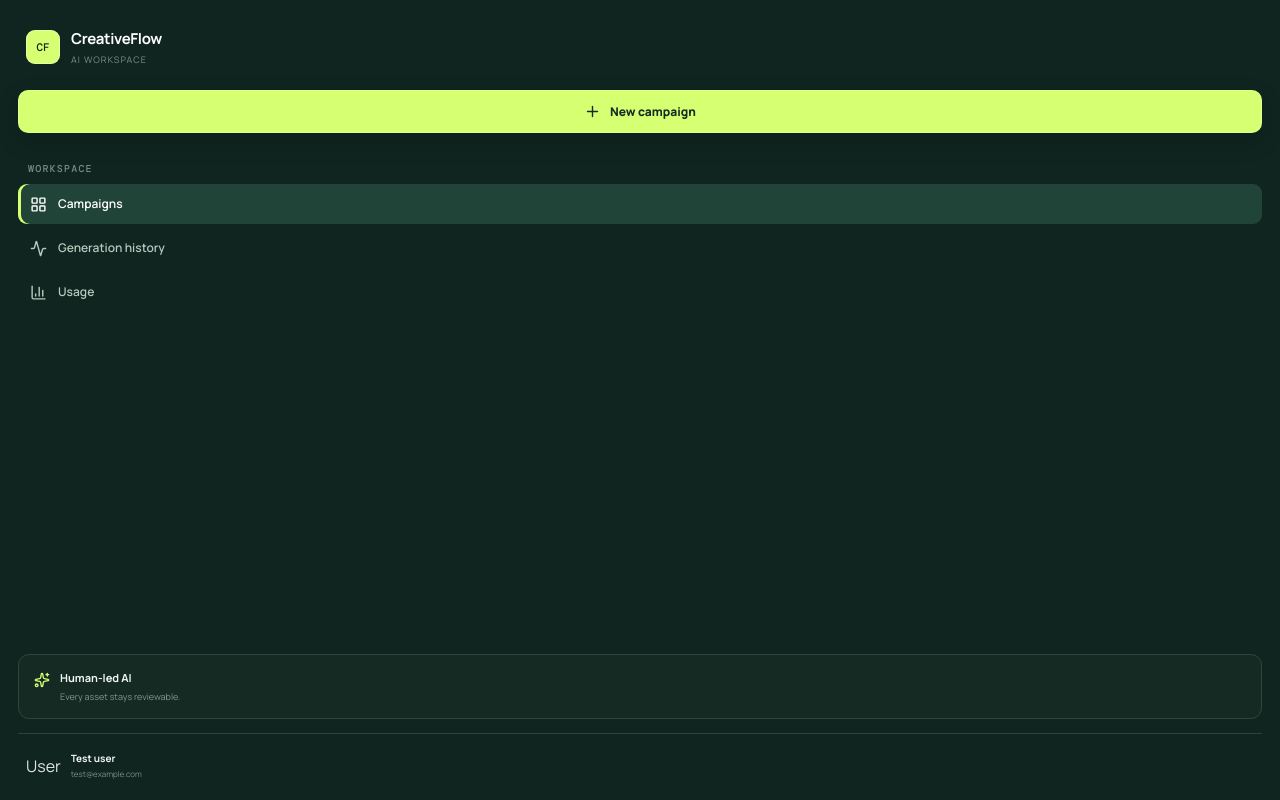
Test: campaign creation dialog › opens from the primary New campaign action
The image size is (1280, 800).
Click the button "New campaign": (640, 112) x1=18 y1=90 x2=1262 y2=133
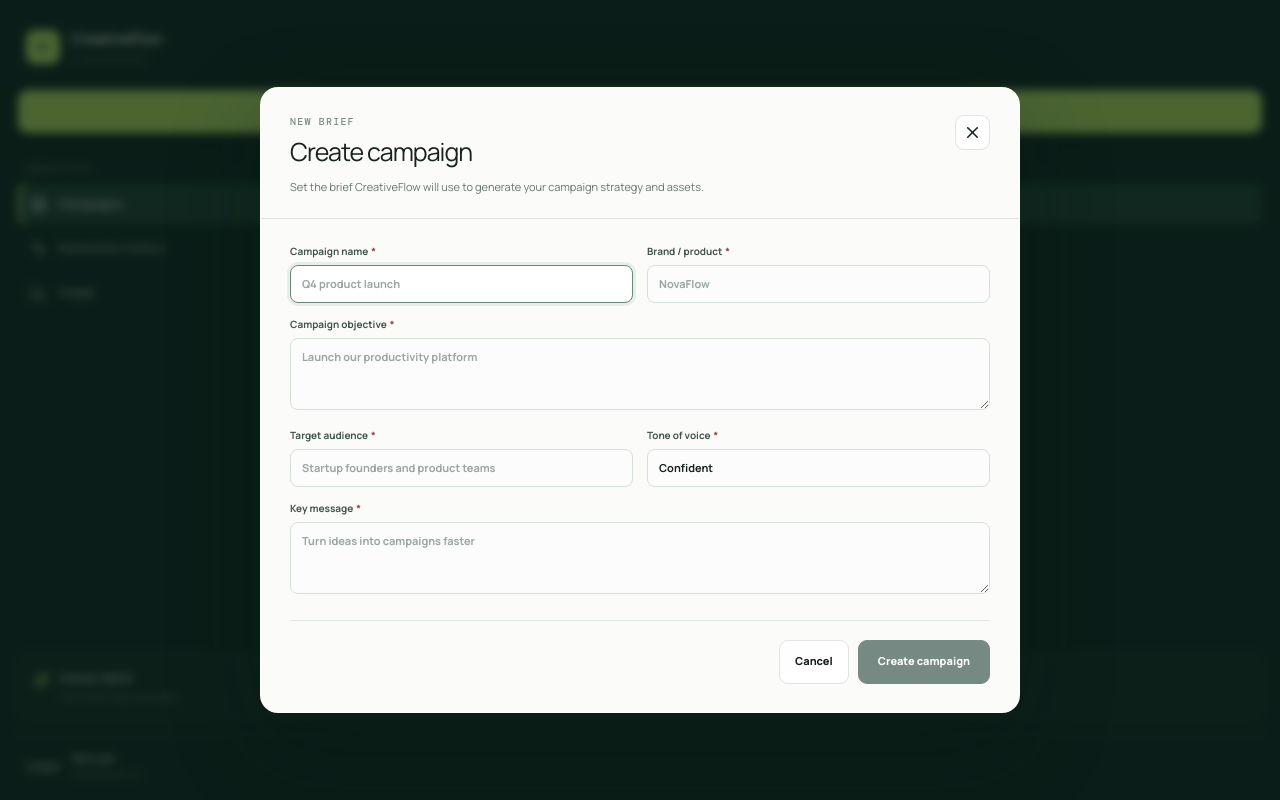
Now the dialog "Create campaign" is shown, box x1=260 y1=88 x2=1020 y2=713
